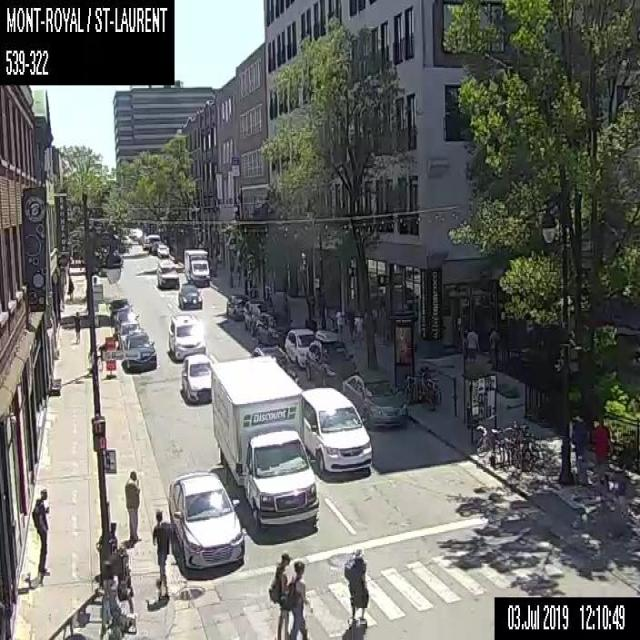construction: (103, 335, 116, 378)
pedestrian: (97, 560, 136, 639), (342, 542, 371, 632), (283, 557, 314, 639), (268, 552, 292, 638), (151, 509, 169, 599), (32, 488, 50, 577), (124, 469, 139, 542), (595, 419, 609, 488), (572, 416, 585, 483), (466, 325, 478, 367), (486, 329, 499, 363), (347, 313, 361, 343), (334, 309, 341, 335), (74, 311, 80, 341), (66, 276, 73, 300)
vehicle: (208, 355, 322, 534), (167, 469, 245, 572), (301, 386, 373, 474), (341, 366, 412, 432), (304, 338, 357, 384), (165, 311, 209, 362), (179, 353, 216, 406), (118, 327, 155, 373), (283, 326, 319, 364), (182, 245, 212, 286), (256, 310, 285, 347), (154, 256, 180, 290), (177, 282, 205, 312), (112, 308, 141, 334), (224, 292, 246, 320), (243, 298, 257, 330), (157, 244, 169, 257)
